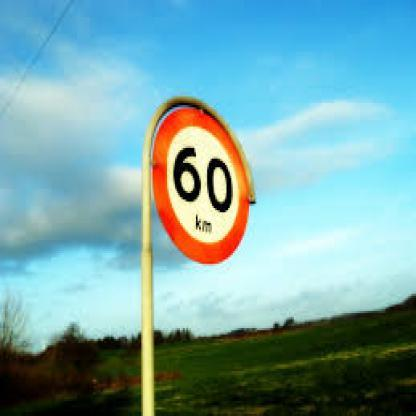Speed Limit 60: (157, 109, 249, 262)
